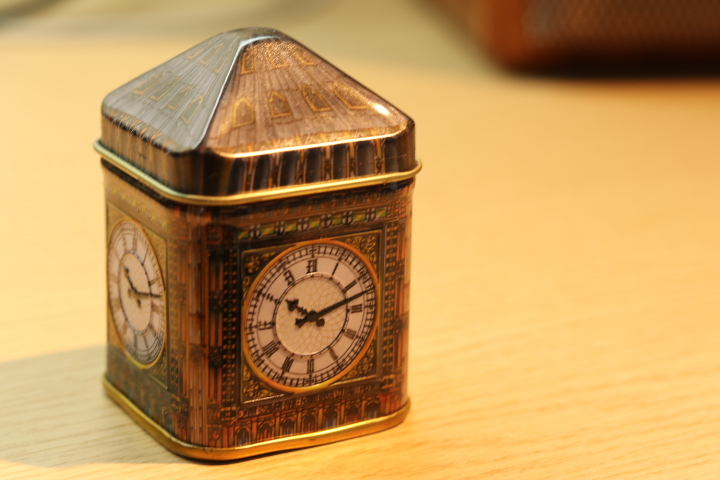Big Ben: (82, 17, 451, 476)
